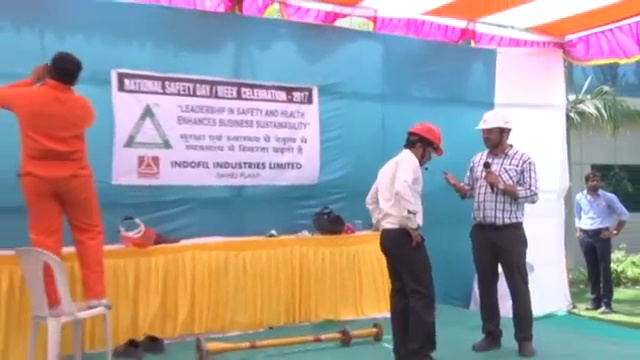helmet: (409, 121, 444, 155), (476, 109, 516, 132)
helmet_off: (44, 50, 82, 89), (582, 169, 602, 195)
helmet_on: (474, 109, 516, 157), (404, 121, 443, 167)
person: (1, 50, 106, 319), (441, 109, 542, 360), (361, 120, 445, 360), (571, 170, 629, 318)
